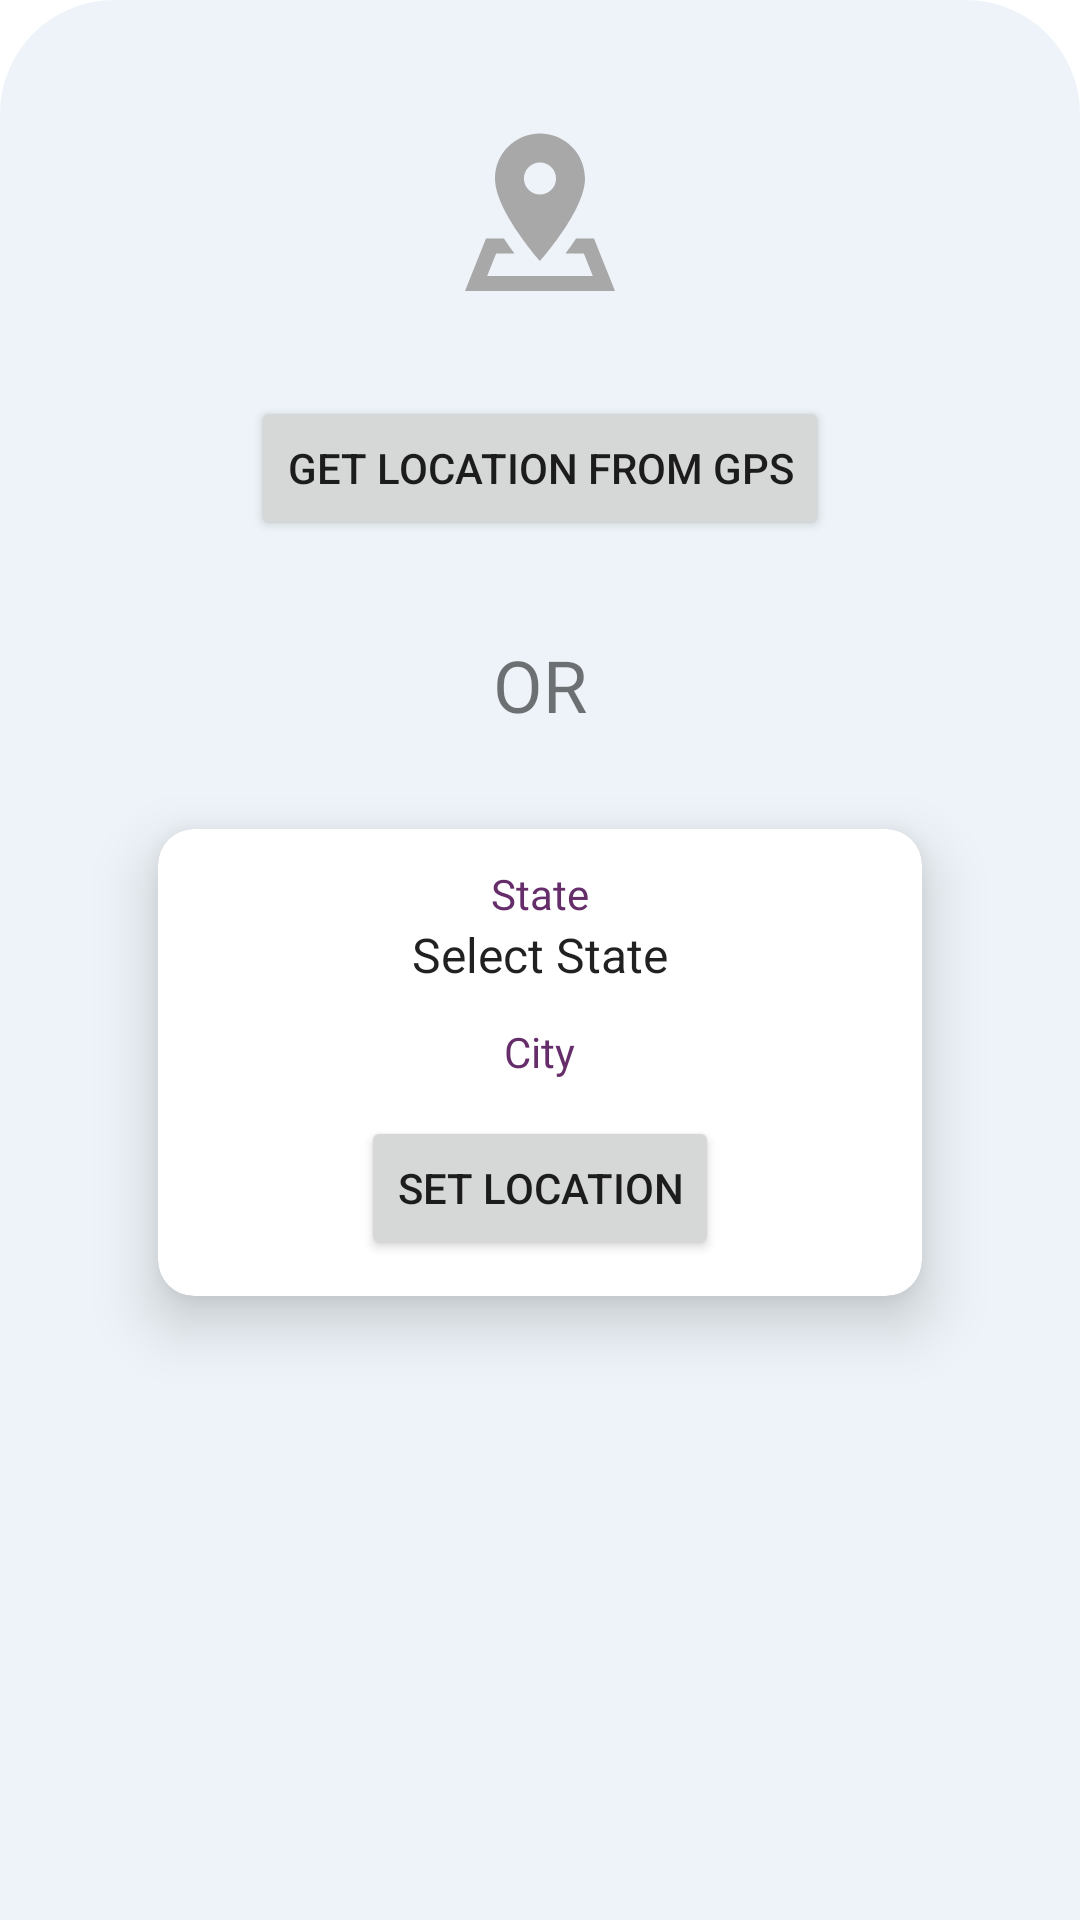

Icons on this 1080w x 1920h Android screen, each with the point to tap as point (x, y):
locationbig: point (540, 212)
